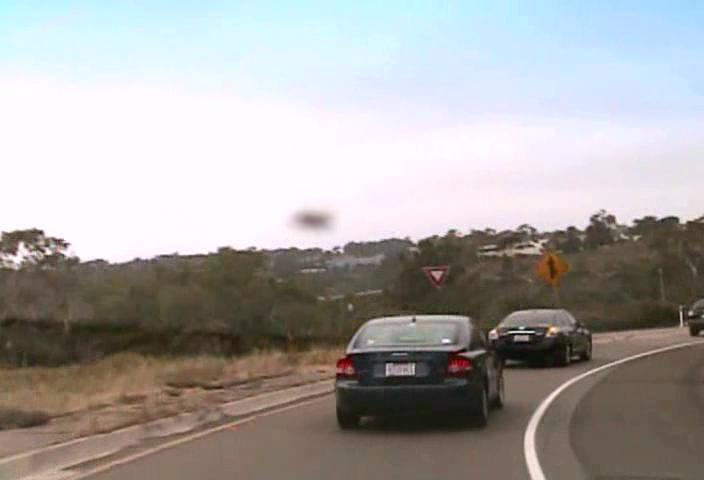merge: (533, 248, 568, 288)
